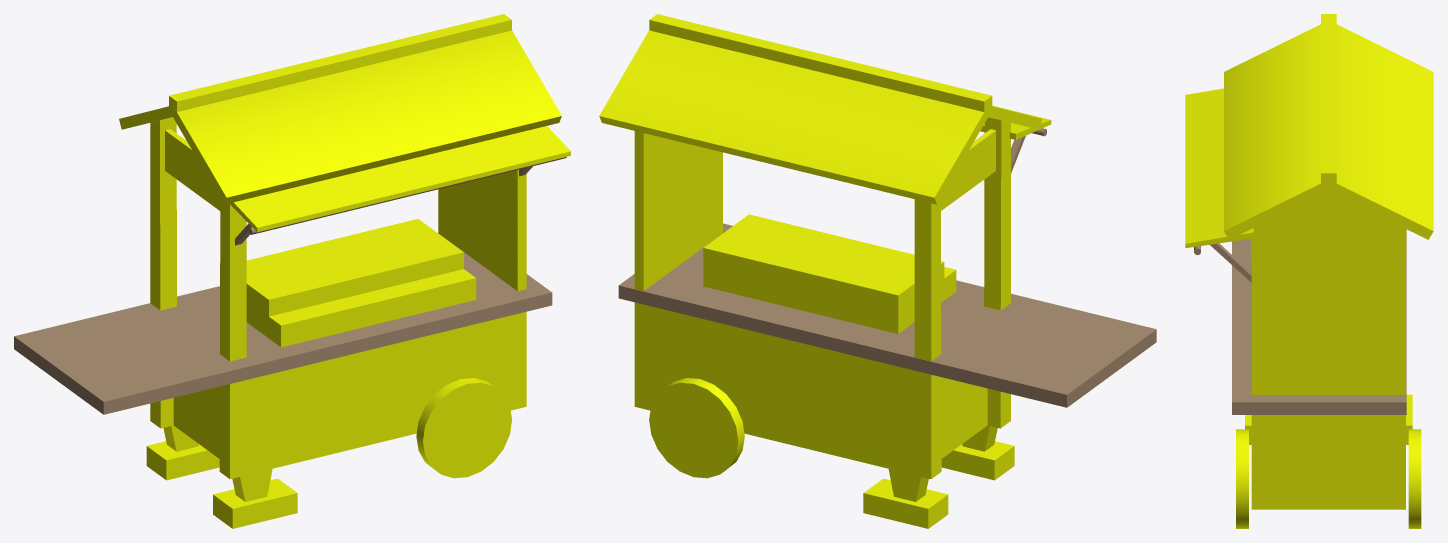
The model's file is Oden_Title_Yatai.gltf.
The picture shows the model from 3 angles, left to right: view 1: azimuth 30°, elevation 25°; view 2: azimuth 150°, elevation 25°; view 3: azimuth 270°, elevation 25°; orthographic projection. The views are drawn at different scales.
Visible parts, largest first — view 1: pCube2, pCube4, pCube3, pCube1, pCube7, pCube9, pCylinder1, pCube12, pCube8, pCube5, pCube11, pCube6; view 2: pCube2, pCube3, pCube4, pCube1, pCube7, pCylinder1, pCube8, pCube5, pCube11, pCube6; view 3: pCube1, pCube2, pCube4, pCube9, pCylinder1, pCube8, pCube5, pCube10.
Boxes of the visible parts, box(x1,y1,x2,y2) form: pCube2: box(119, 30, 561, 204); pCube4: box(14, 233, 552, 414); pCube3: box(173, 314, 517, 474); pCube1: box(150, 117, 526, 479); pCube7: box(246, 219, 463, 337); pCube9: box(229, 126, 570, 232); pCylinder1: box(416, 378, 511, 478); pCube12: box(268, 269, 476, 347); pCube8: box(169, 14, 511, 111); pCube5: box(146, 441, 297, 528); pCube11: box(165, 129, 220, 210); pCube6: box(163, 425, 272, 501); pCube2: box(599, 30, 1041, 204); pCube3: box(643, 304, 987, 474); pCube4: box(618, 223, 1156, 407); pCube1: box(634, 117, 1010, 478); pCube7: box(703, 214, 944, 333); pCylinder1: box(649, 378, 744, 478); pCube8: box(649, 14, 992, 111); pCube5: box(863, 441, 1014, 528); pCube11: box(941, 129, 995, 210); pCube6: box(888, 425, 997, 501); pCube1: box(1251, 191, 1406, 509); pCube2: box(1224, 24, 1433, 239); pCube4: box(1232, 229, 1406, 414); pCube9: box(1185, 88, 1253, 248); pCylinder1: box(1236, 429, 1421, 528); pCube8: box(1321, 14, 1336, 183); pCube5: box(1245, 394, 1412, 444); pCube10: box(1210, 243, 1251, 282).
Bounding box in the file's own units: 49.57 × 42.14 × 24.12.
